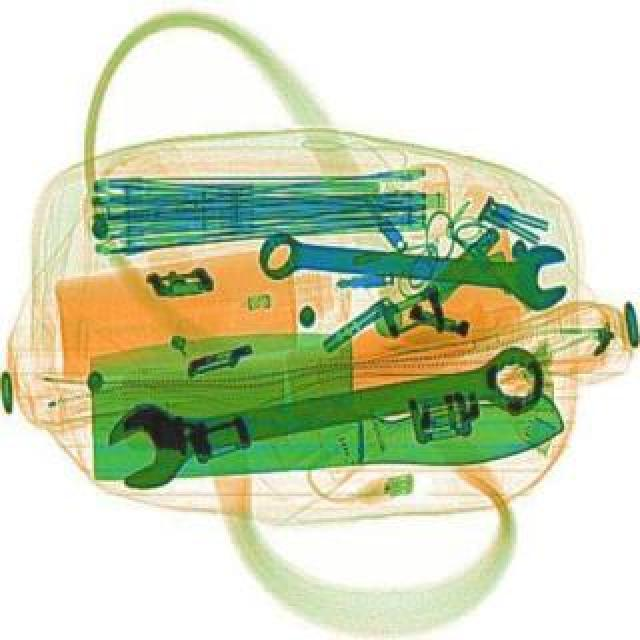knife: (82, 312, 566, 488)
scissors: (98, 334, 550, 492), (256, 220, 568, 310)
